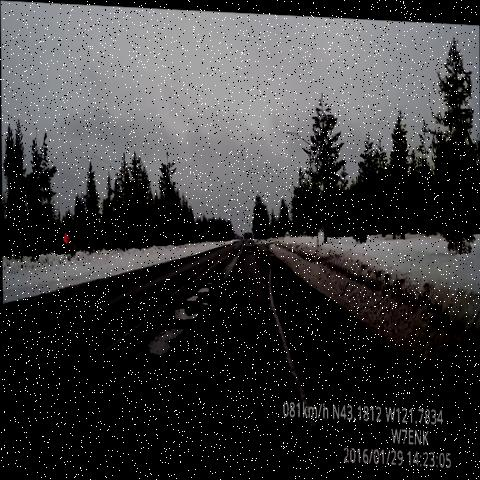pothole: (145, 315, 188, 361), (165, 300, 201, 324), (181, 283, 200, 306), (198, 291, 214, 310), (197, 276, 213, 294)
